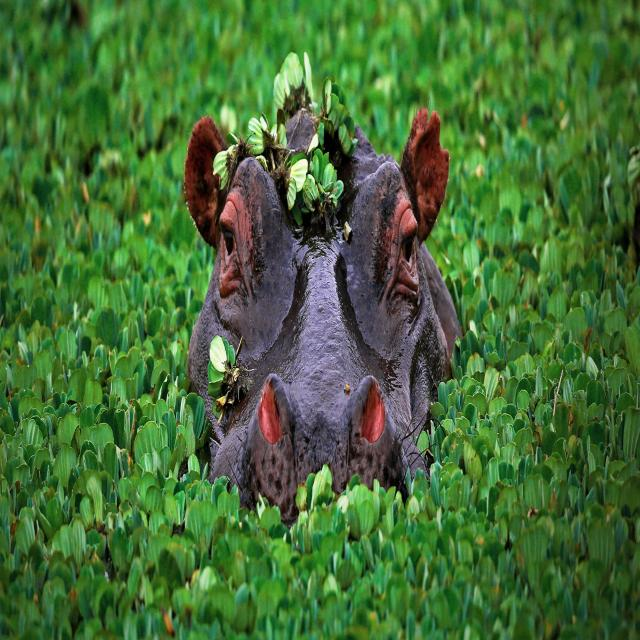Hippopotamus: (172, 84, 454, 527)
